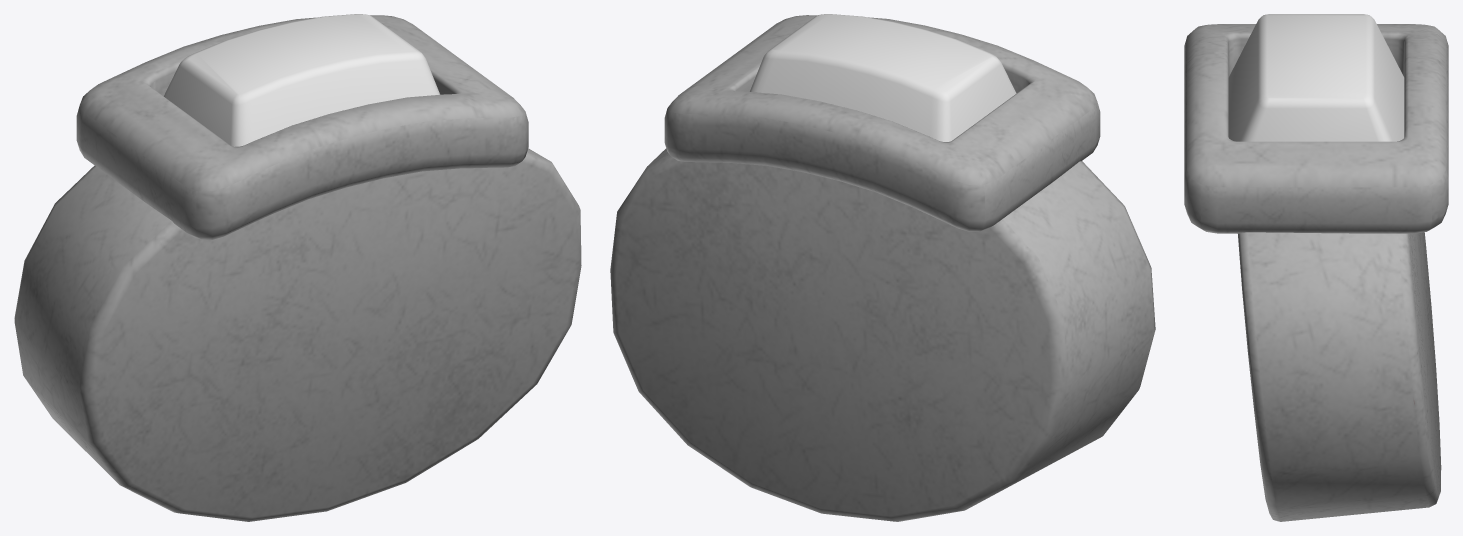
Rendered from BrazaleteVida.fbx.
3 renders of one model, left to right at view 1: azimuth 30°, elevation 25°; view 2: azimuth 150°, elevation 25°; view 3: azimuth 270°, elevation 25°, orthographic. The views are drawn at different scales.
Parts seen in each view (by area): view 1: BrazaleteVidaBase, GlassVida; view 2: BrazaleteVidaBase, GlassVida; view 3: BrazaleteVidaBase, GlassVida.
Boxes of the visible parts, left/top/right/bottom form: BrazaleteVidaBase: left=14, top=15, right=581, bottom=521; GlassVida: left=164, top=14, right=439, bottom=146; BrazaleteVidaBase: left=610, top=15, right=1155, bottom=521; GlassVida: left=750, top=14, right=1016, bottom=141; BrazaleteVidaBase: left=1184, top=24, right=1448, bottom=521; GlassVida: left=1228, top=14, right=1404, bottom=141.
Size of the model in its own units: 6.12 by 5.27 by 2.88.
